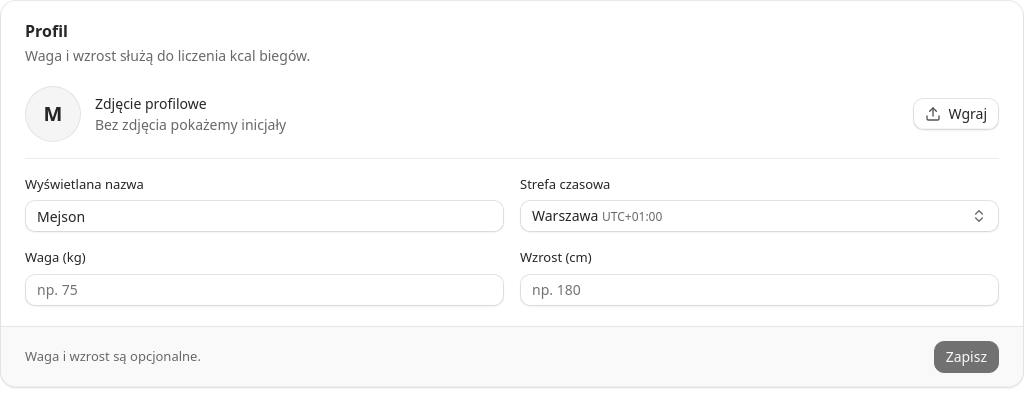
ProfileCard › waga „72,5” → saveProfile z weight_kg: 72.5, potem „Zapisano ✓”
Type "72,5" into the field labelled "Waga (kg)" at (264,290), box [25,274,504,306]
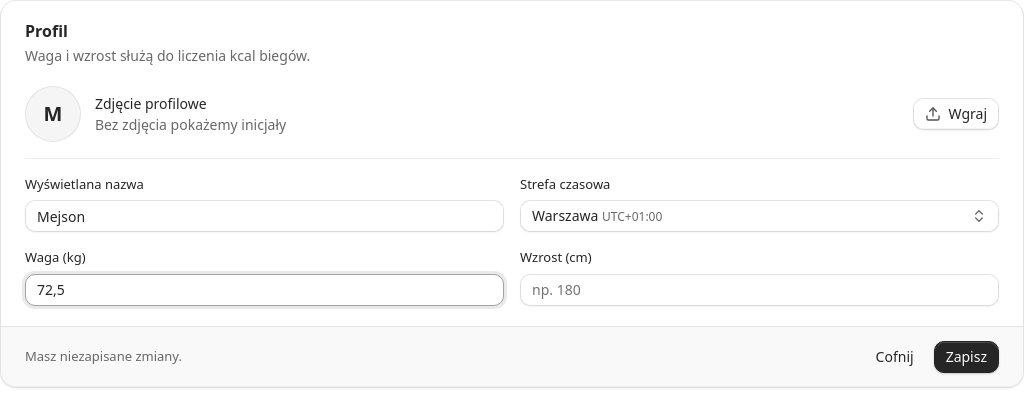
Now the text "Masz niezapisane zmiany." is shown, box [25,347,182,366]
Click the button "Zapisz" at (966,357), box [934,341,999,373]
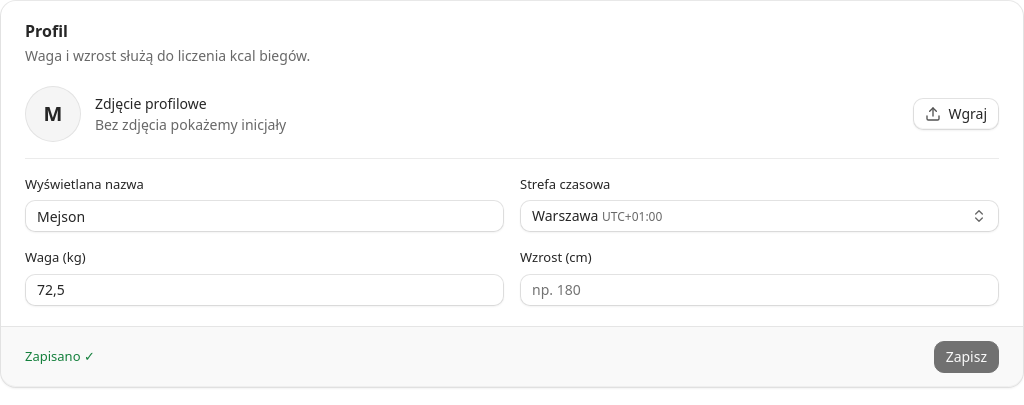
Now the text "Zapisano ✓" is shown, box [25,347,95,366]
Now the button "Zapisz" is disabled, box [934,341,999,373]
